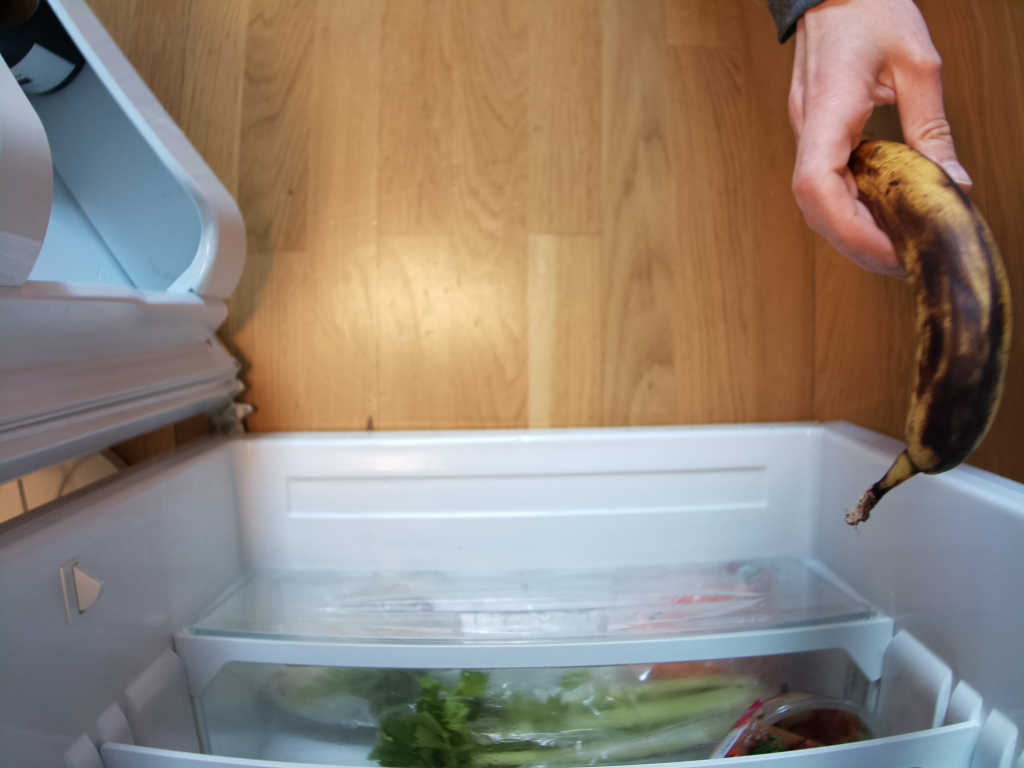banana-overripe: (838, 138, 1008, 531)
